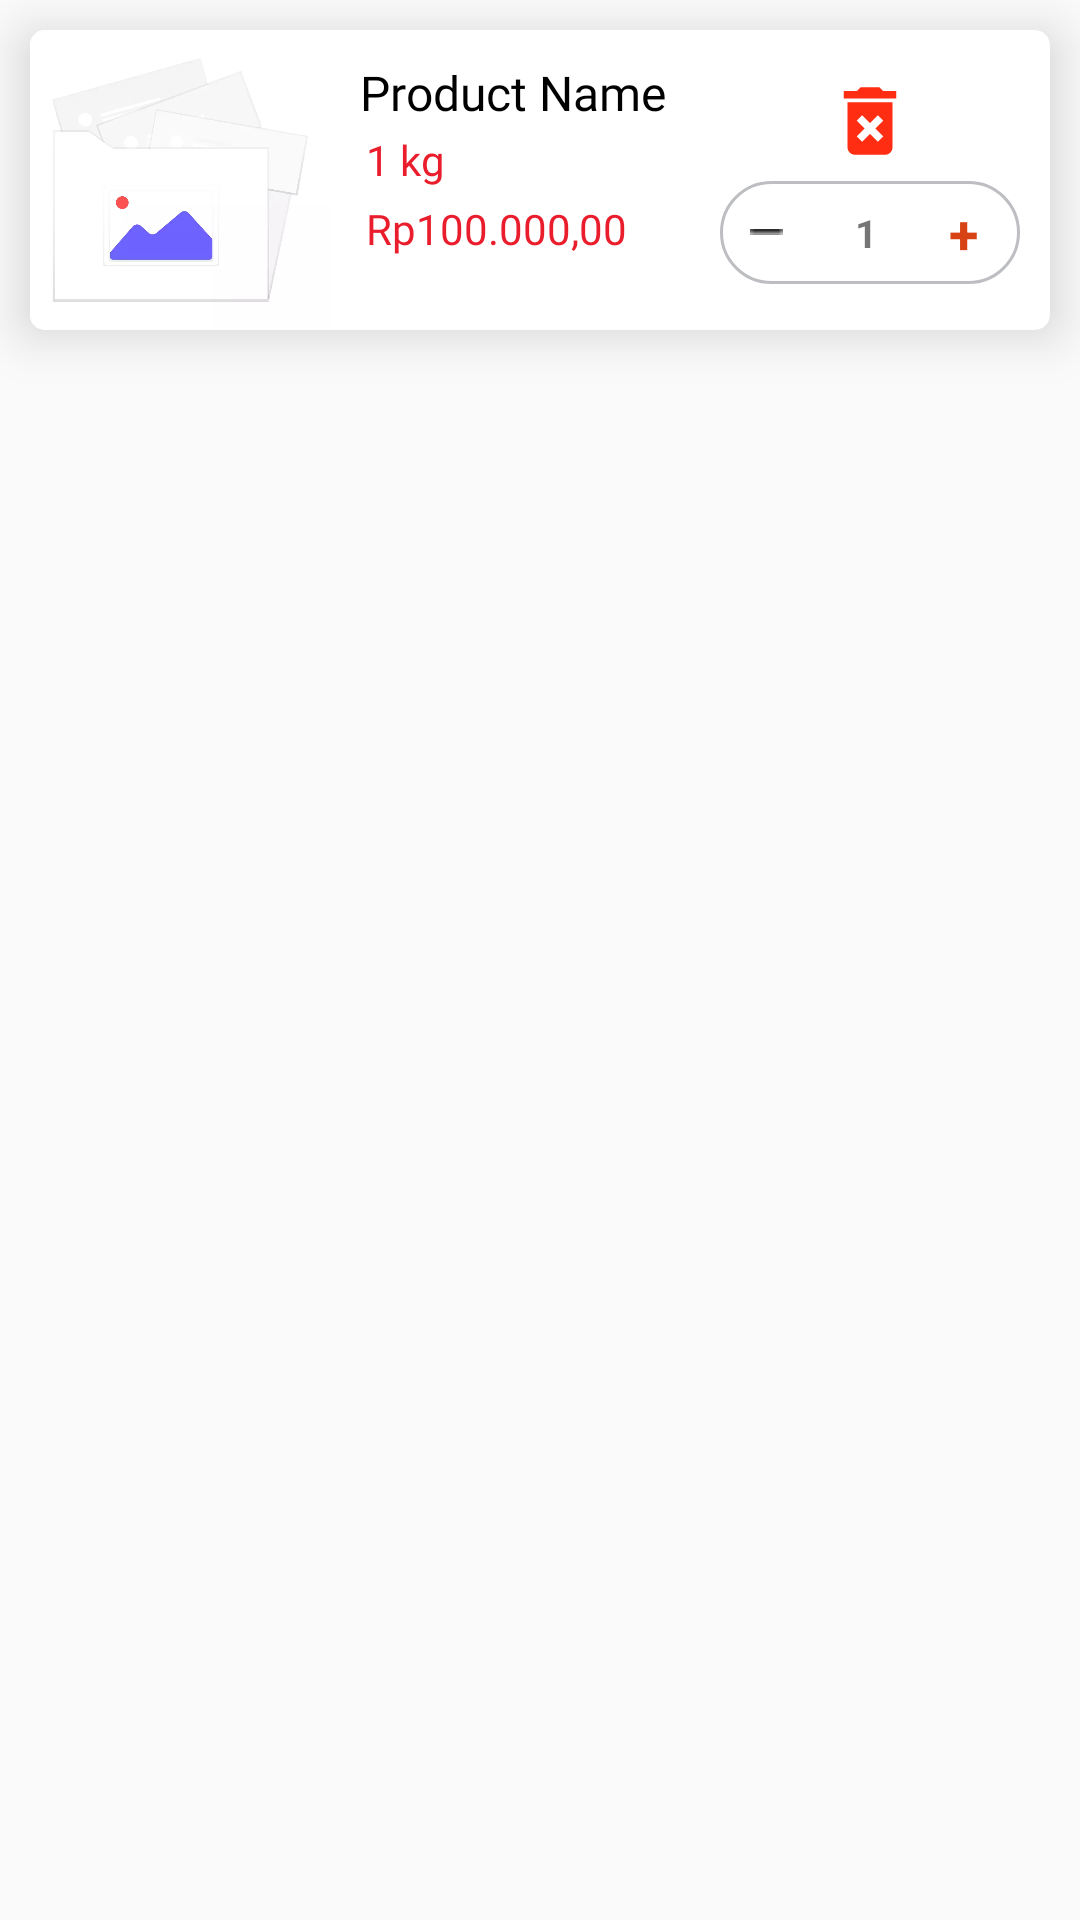

Icons on this 1080px×1920px Android screen, each with its box as (x1, y1, x2, y2):
Want to delete ?: (843, 87, 897, 155)
